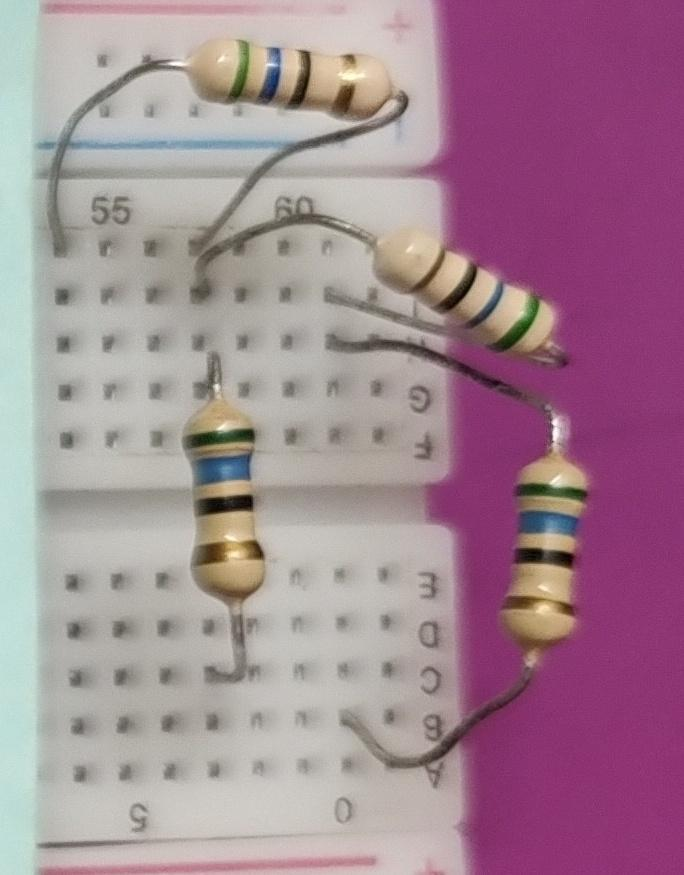resistor: (354, 217, 582, 371), (170, 25, 408, 125), (174, 399, 274, 617), (505, 449, 600, 674)
